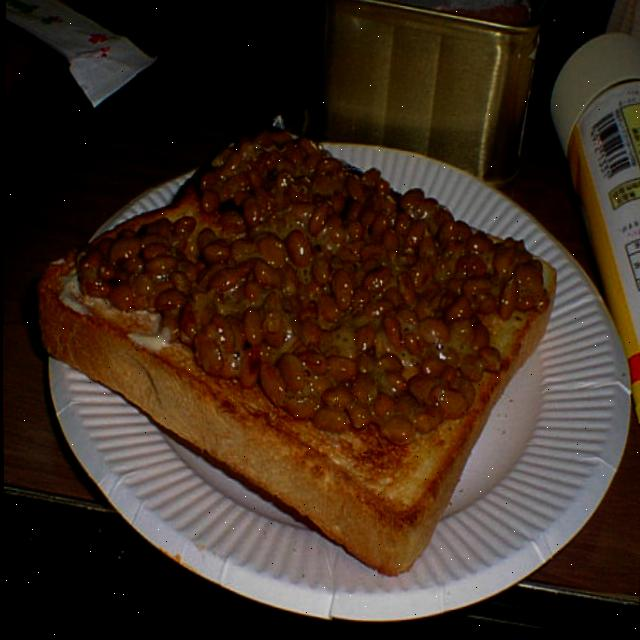面包点心: (4, 120, 575, 574)
